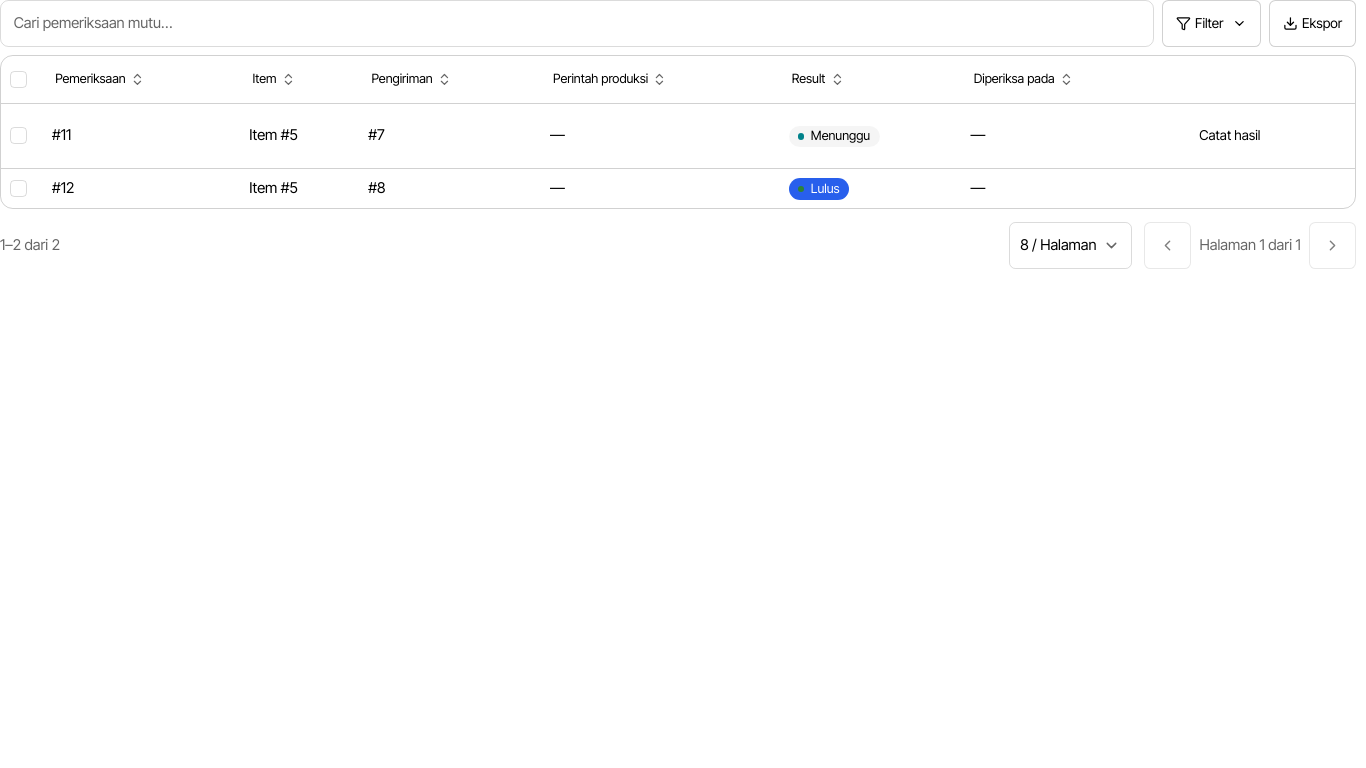
Test: QualityChecksSection › opens the record result dialog
Expected: the text "#11" is shown, [44,104,241,168]
What coordinates should you click on to do the following:
click the button "Catat hasil"
I would click on:
 (1230, 136)
Its box is [1186,112,1274,159].
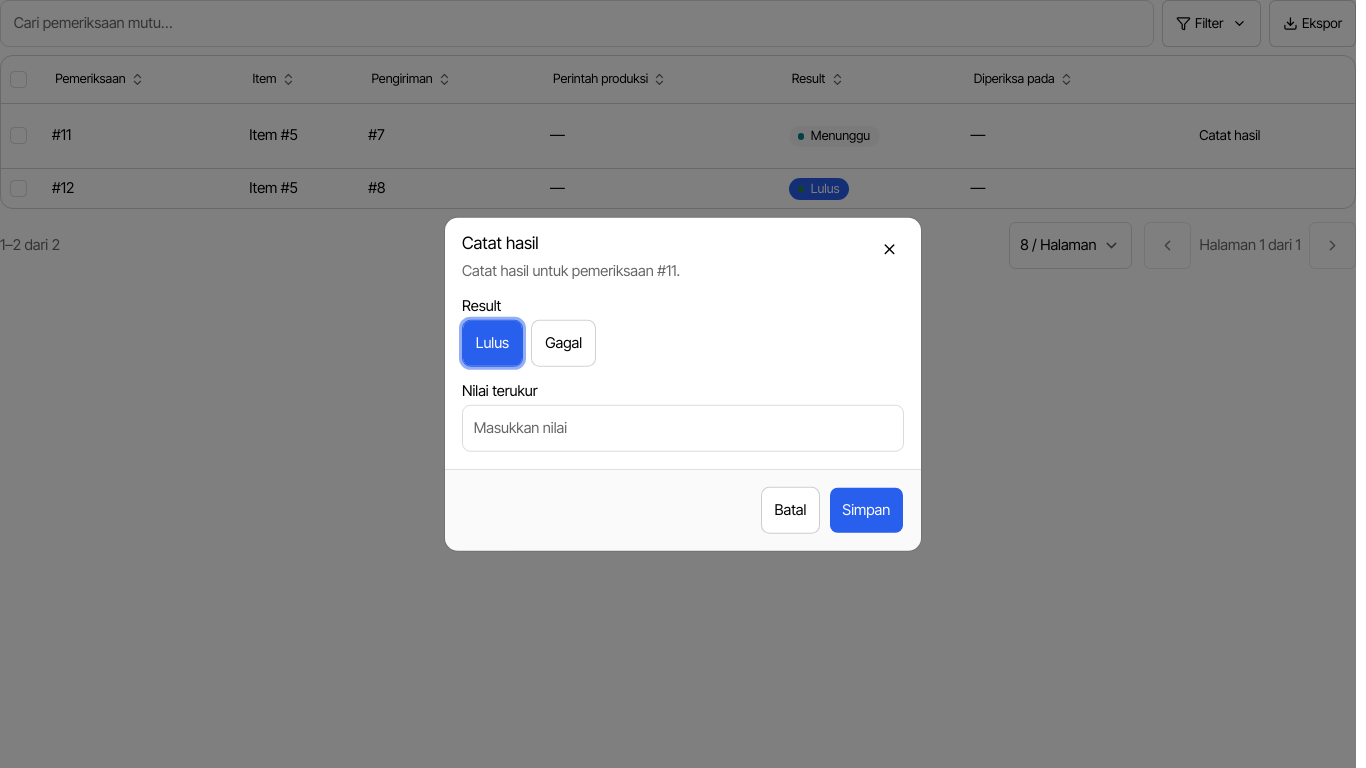
Now the heading "Catat hasil" is shown, box [462,233,538,253]
